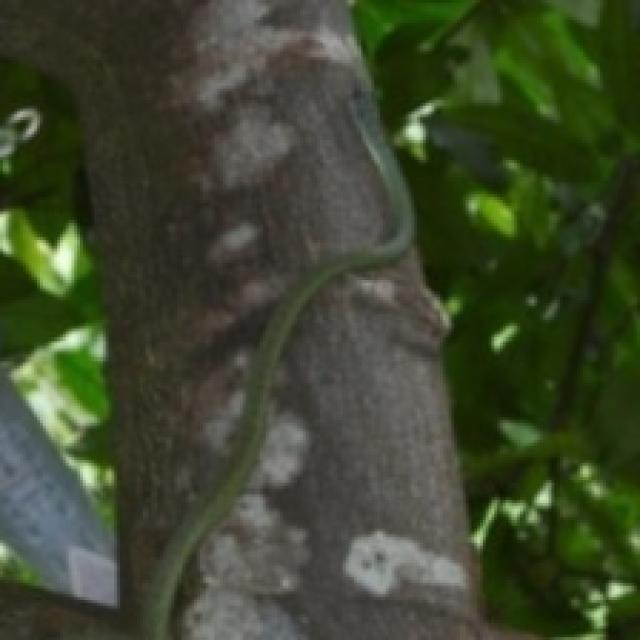paradise tree snake: (180, 586, 303, 637)
